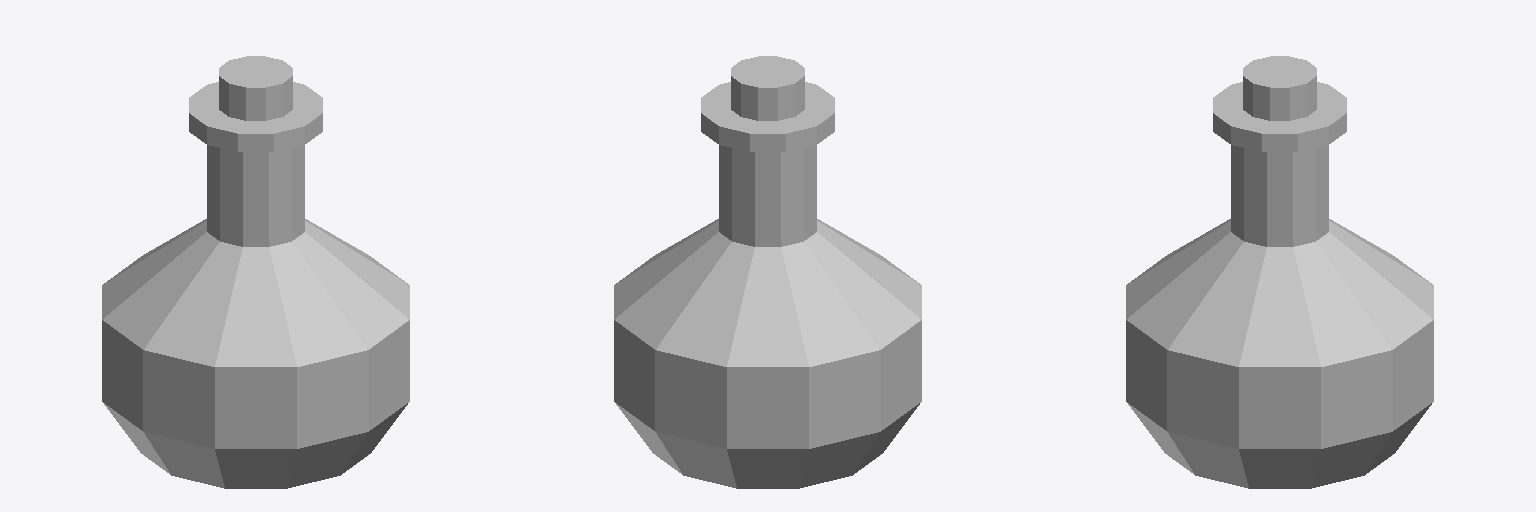
File: bottle.obj
The picture shows the model from 3 angles: view 1: azimuth 30°, elevation 25°; view 2: azimuth 150°, elevation 25°; view 3: azimuth 270°, elevation 25°; orthographic projection.
Visible parts, largest first — view 1: cylinder; view 2: cylinder; view 3: cylinder.
Boxes of the visible parts, x1,y1,x2,y2 form: cylinder: [102, 56, 409, 488]; cylinder: [614, 56, 921, 488]; cylinder: [1126, 56, 1433, 488].
Size of the model in its own units: 0.3125 by 0.4125 by 0.3125.